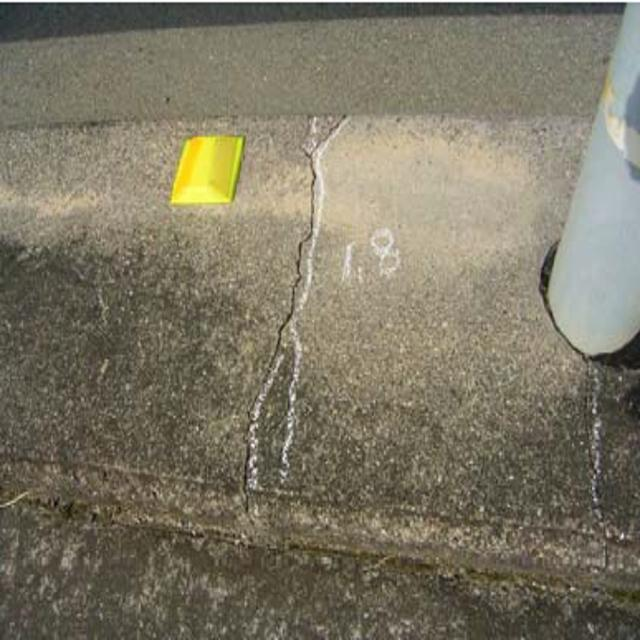crack: (235, 106, 342, 527)
